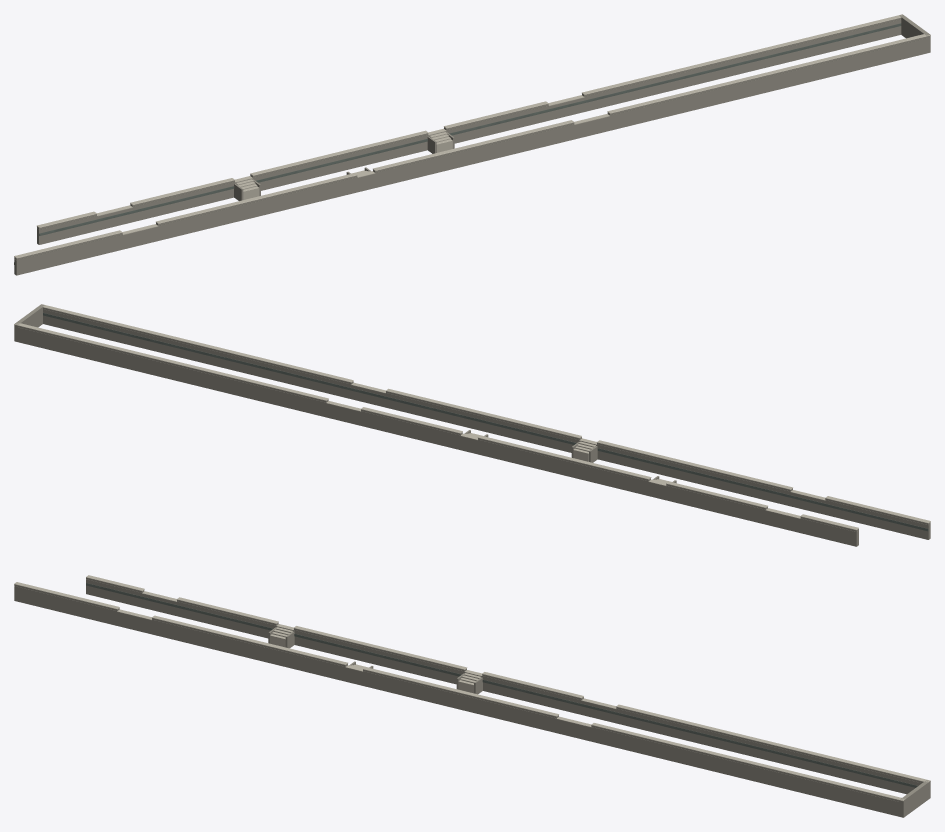
Rendered from canal_banks.glb.
3 views of the same model, one above another, from view 1: azimuth 30°, elevation 25°; view 2: azimuth 150°, elevation 25°; view 3: azimuth 330°, elevation 25° (orthographic). The views are drawn at different scales.
Parts seen in each view (by area): view 1: canal_banks; view 2: canal_banks; view 3: canal_banks.
Part boxes in pixels (bbox=[...]): canal_banks: bbox=[14, 14, 930, 275]; canal_banks: bbox=[14, 304, 930, 546]; canal_banks: bbox=[14, 575, 930, 817].
Size of the model in its own units: 113 by 2.1 by 6.12.
3 materials, 1 textured.
